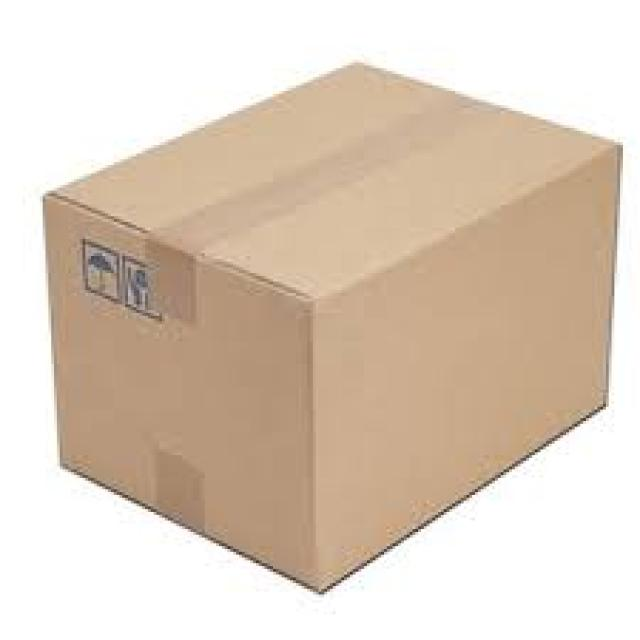Kardus kondisi bagus: (50, 61, 627, 594)
